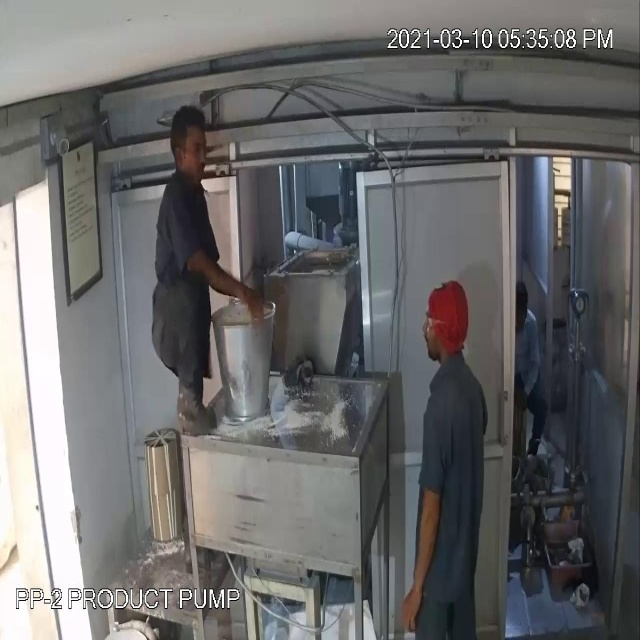Sin_guantes: (394, 467, 445, 637), (180, 238, 261, 332)
